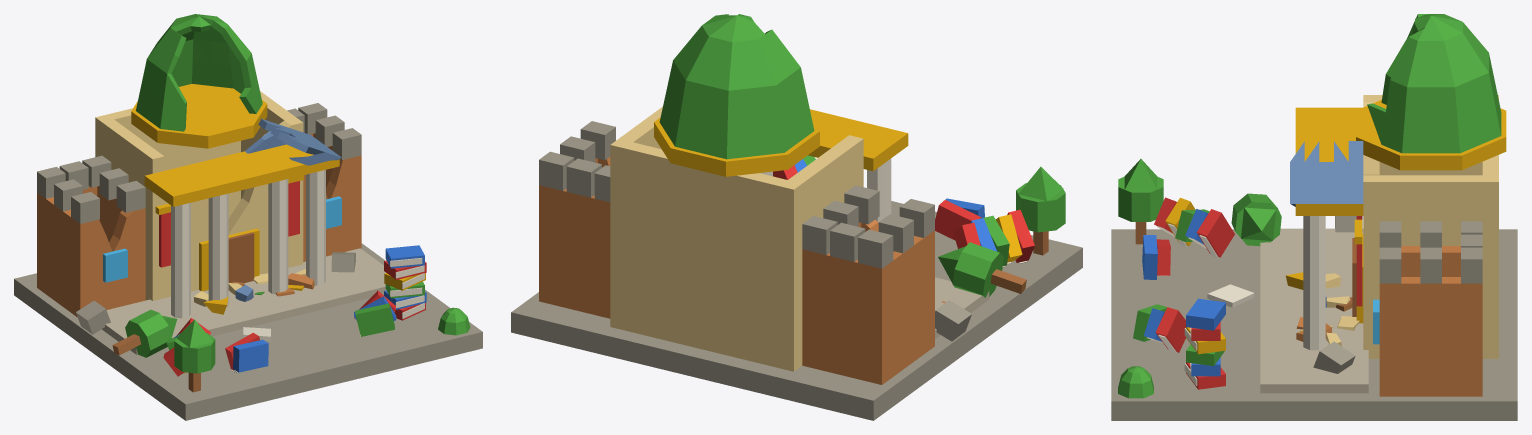
File: library_t3_v2_dmg1.glb
The picture shows the model from 3 angles, left to right: view 1: azimuth 30°, elevation 25°; view 2: azimuth 150°, elevation 25°; view 3: azimuth 270°, elevation 25°; orthographic projection. The views are drawn at different scales.
Parts seen in each view (by area): view 1: library_t3_v2_dmg1; view 2: library_t3_v2_dmg1; view 3: library_t3_v2_dmg1.
Part boxes in pixels (bbox=[...]): library_t3_v2_dmg1: bbox=[14, 14, 482, 420]; library_t3_v2_dmg1: bbox=[511, 14, 1082, 420]; library_t3_v2_dmg1: bbox=[1111, 14, 1517, 420].
Bounding box in the file's own units: 0.7796 × 0.65 × 0.75.
Materials: 1 (1 with a texture image).
